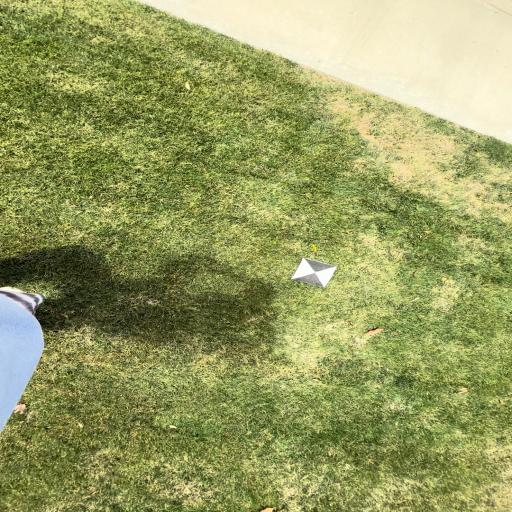target: (292, 258, 337, 287)
